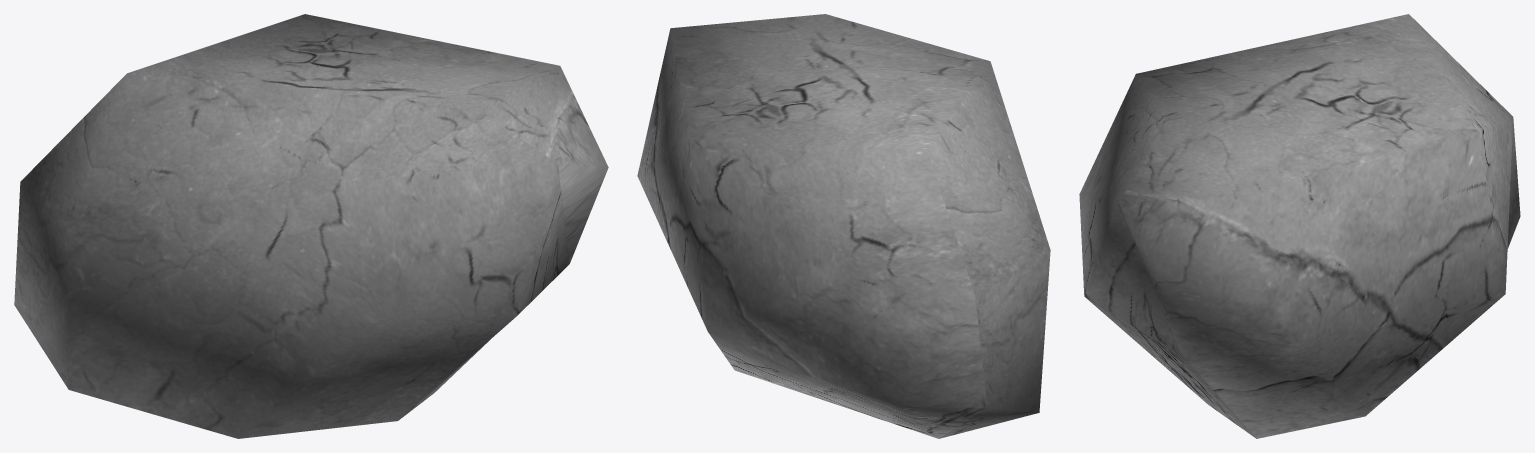
Rendered from ROCK_2.FBX.
3 views of the same model, side by side, from view 1: azimuth 30°, elevation 25°; view 2: azimuth 150°, elevation 25°; view 3: azimuth 270°, elevation 25° (orthographic). The views are drawn at different scales.
Parts seen in each view (by area): view 1: 02; view 2: 02; view 3: 02.
Boxes of the visible parts, box(x1,y1,x2,y2) form: 02: box(14, 14, 608, 438); 02: box(637, 14, 1050, 438); 02: box(1079, 14, 1520, 438).
Bounding box in the file's own units: 588 × 395 × 502.
1 material, 1 textured.
